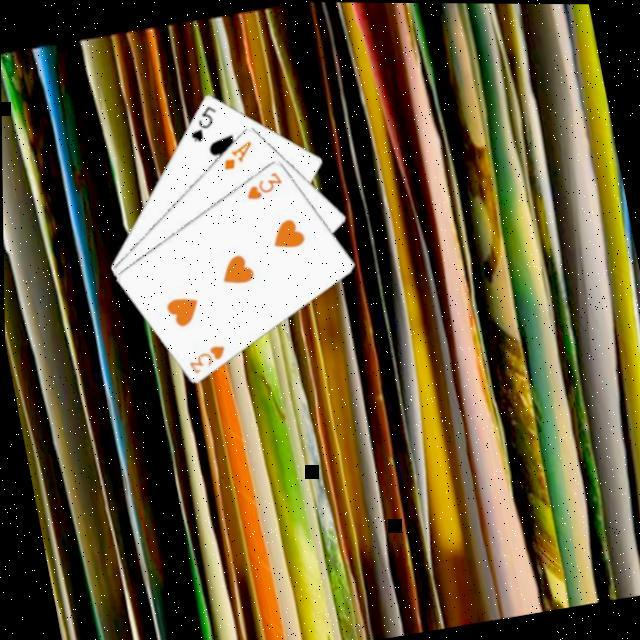3H: (236, 164, 284, 202), (180, 338, 228, 375)
5S: (179, 98, 222, 144)
AD: (214, 134, 256, 170)
